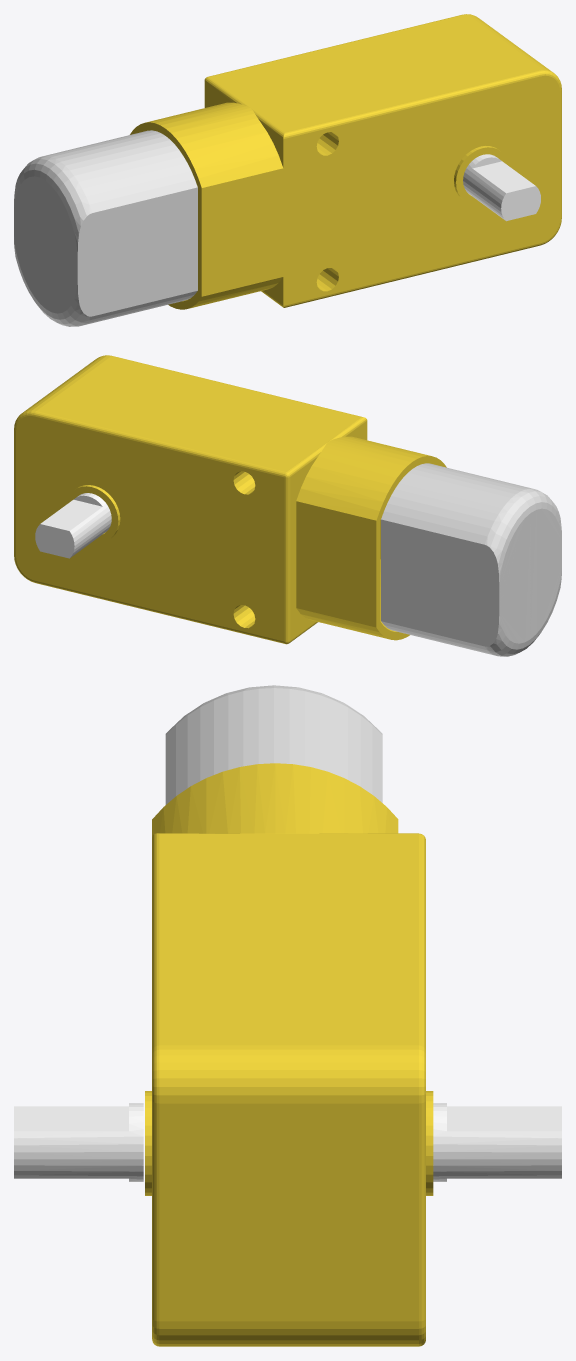
The model's file is motor.dae.
3 renders of one model, top to bottom at view 1: azimuth 30°, elevation 25°; view 2: azimuth 150°, elevation 25°; view 3: azimuth 270°, elevation 25°, orthographic. The views are drawn at different scales.
Visible parts, largest first — view 1: Gearbox, Motor, Axis; view 2: Gearbox, Motor, Axis; view 3: Gearbox, Axis, Motor.
Boxes of the visible parts, x1,y1,x2,y2 form: Gearbox: [130, 14, 561, 309]; Motor: [14, 130, 197, 326]; Axis: [463, 154, 540, 221]; Gearbox: [14, 355, 446, 644]; Motor: [381, 463, 561, 656]; Axis: [35, 493, 111, 558]; Gearbox: [145, 763, 433, 1346]; Axis: [14, 1103, 561, 1181]; Motor: [165, 685, 382, 804].
Bounding box in the file's own units: 5.85 × 3.38 × 2.03.
